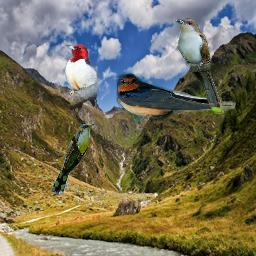Cuckoo: (175, 18, 224, 114), (52, 124, 95, 194)
Swallow: (114, 71, 236, 120)
Woodpecker: (63, 44, 100, 117)
